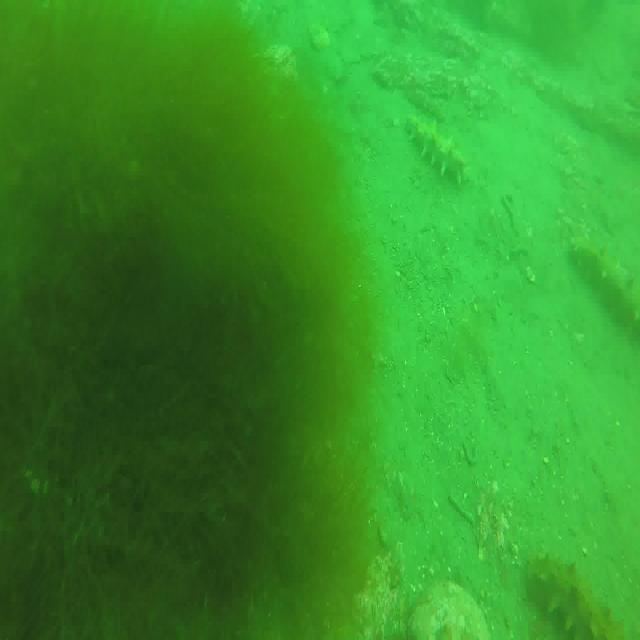holothurian: (528, 553, 632, 640), (571, 236, 640, 344), (404, 114, 468, 182)
